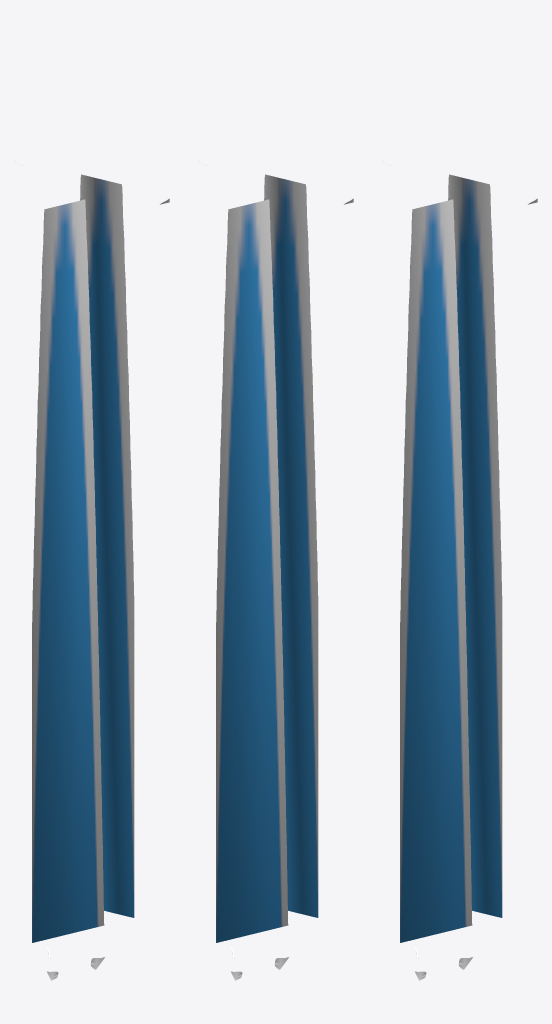
File: pen.fbx
The picture shows the model from 3 angles, left to right: view 1: azimuth 30°, elevation 25°; view 2: azimuth 150°, elevation 25°; view 3: azimuth 270°, elevation 25°; orthographic projection.
Parts seen in each view (by area): view 1: 円; view 2: 円; view 3: 円.
Part boxes in pixels (x1,y1,x2,y2): 円: [14, 161, 169, 980]; 円: [198, 161, 353, 980]; 円: [382, 161, 537, 980].
Bounding box in the file's own units: 0.0381 × 0.033 × 0.2251.
